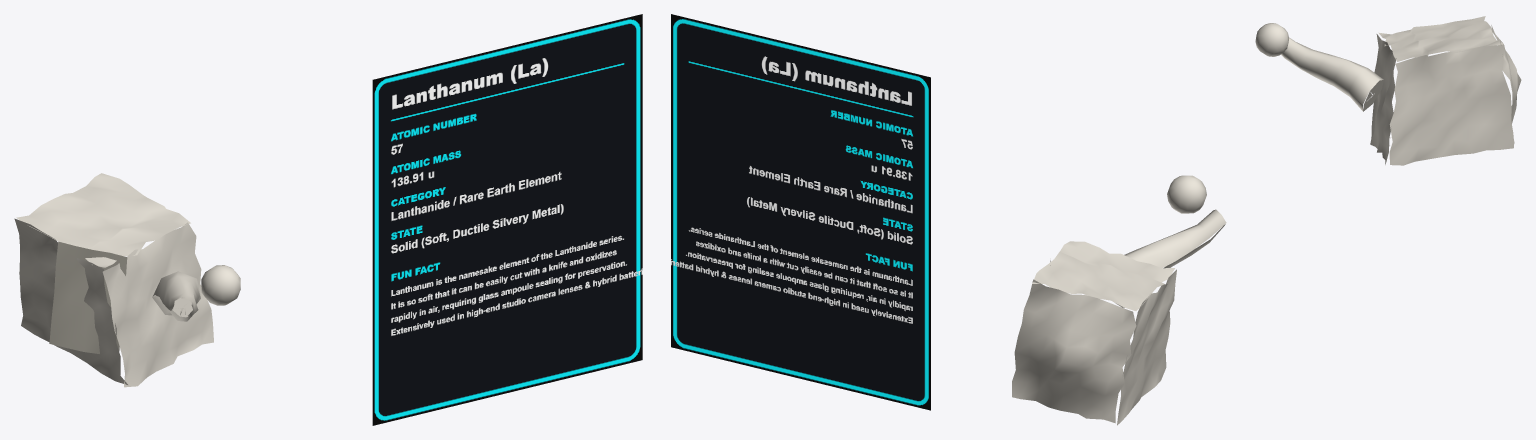
File: lanthanum.glb
The picture shows the model from 3 angles, left to right: view 1: azimuth 30°, elevation 25°; view 2: azimuth 150°, elevation 25°; view 3: azimuth 270°, elevation 25°; orthographic projection. The views are drawn at different scales.
Parts seen in each view (by area): view 1: Mesh_7, Mesh_0, Mesh_1, Mesh_2, Mesh_3; view 2: Mesh_7, Mesh_0, Mesh_2, Mesh_3; view 3: Mesh_0, Mesh_2, Mesh_3.
Boxes of the visible parts, x1=… form: Mesh_7: x1=372, y1=14, x2=642, y2=425; Mesh_0: x1=14, y1=173, x2=213, y2=387; Mesh_1: x1=49, y1=241, x2=127, y2=353; Mesh_2: x1=152, y1=271, x2=200, y2=321; Mesh_3: x1=201, y1=265, x2=240, y2=305; Mesh_7: x1=671, y1=14, x2=930, y2=410; Mesh_0: x1=1012, y1=241, x2=1176, y2=425; Mesh_2: x1=1115, y1=209, x2=1226, y2=307; Mesh_3: x1=1167, y1=175, x2=1206, y2=213; Mesh_0: x1=1370, y1=16, x2=1521, y2=165; Mesh_2: x1=1281, y1=37, x2=1383, y2=111; Mesh_3: x1=1255, y1=23, x2=1288, y2=56.
Size of the model in its own units: 2.35 by 1.4 by 1.18.
Materials: 3 (1 with a texture image).
